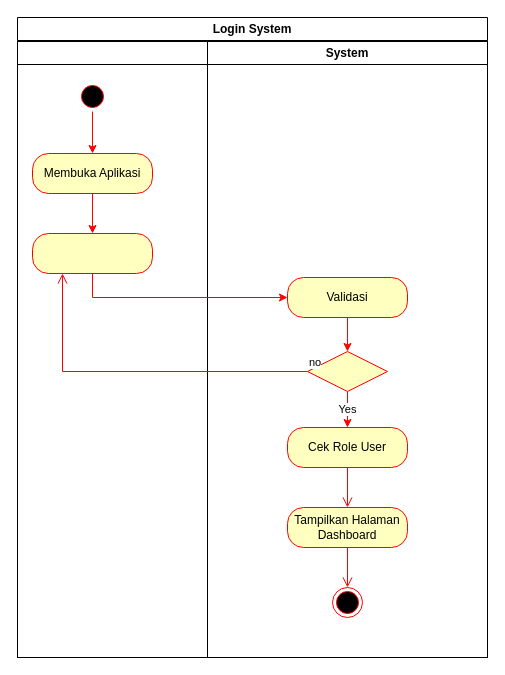
The diagram is 505 pixels wide and 675 high, and some of its shapes have lost their labels. Each missing label, with the box of its shape:
Memasukkan Email & Password: (32, 232, 152, 274)
User: (16, 40, 208, 658)
Valid Input?: (306, 350, 388, 392)
